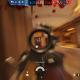Character: (38, 40, 41, 46)
Friend_label: (78, 34, 80, 36)
